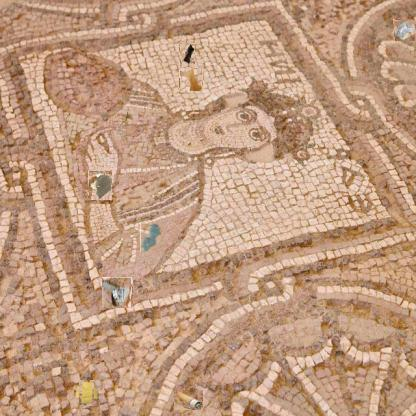dirty: (102, 277, 133, 308), (88, 170, 112, 200), (176, 388, 200, 413), (394, 19, 416, 41), (76, 382, 97, 404), (180, 43, 196, 67)
liquid: (140, 222, 161, 252), (179, 67, 203, 91)
